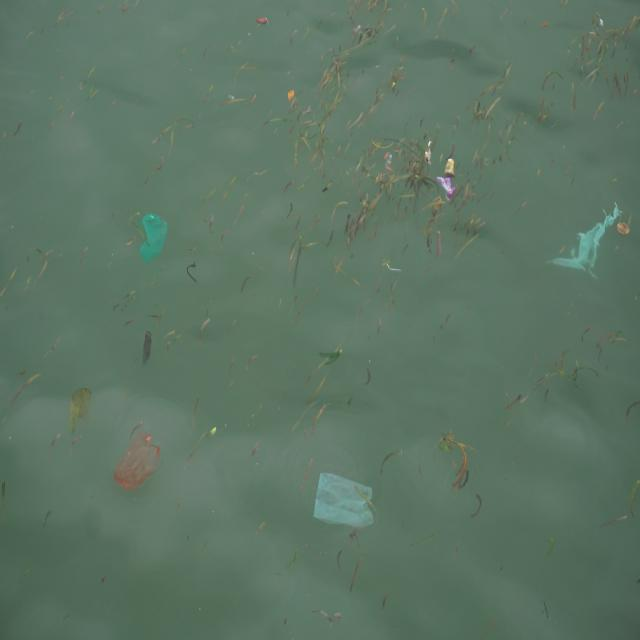Bungkus Minuman: (445, 158, 457, 180)
Kantong Plastik: (311, 467, 379, 535), (115, 427, 163, 498), (137, 211, 171, 264)
